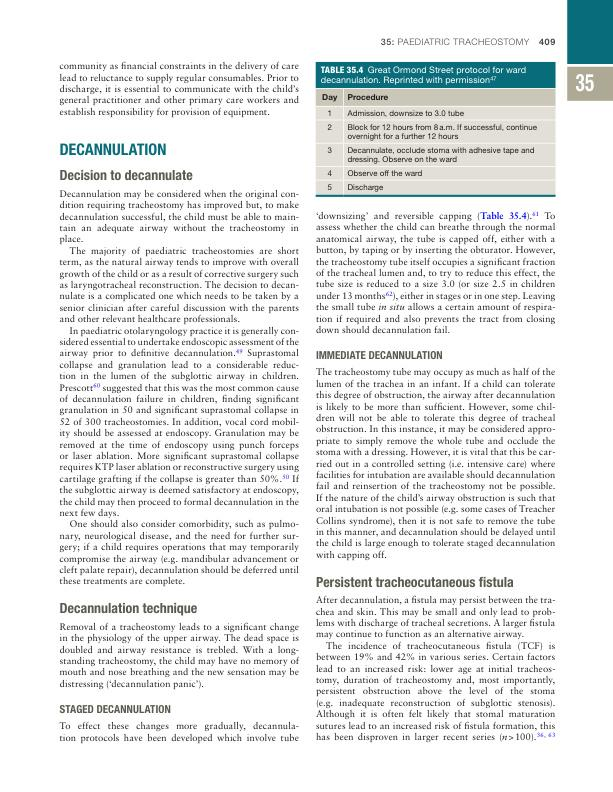caption: (318, 65, 528, 86)
header: (380, 37, 531, 47)
section-heading: (58, 141, 168, 157)
sub-section-heading: (315, 574, 515, 590), (58, 600, 198, 617), (58, 168, 194, 182), (315, 349, 444, 361), (59, 703, 173, 715)
table: (315, 88, 555, 197)
text: (58, 188, 300, 588), (314, 366, 556, 561), (314, 594, 557, 743), (314, 209, 557, 335), (58, 621, 301, 691), (58, 60, 300, 119), (58, 720, 300, 745)
